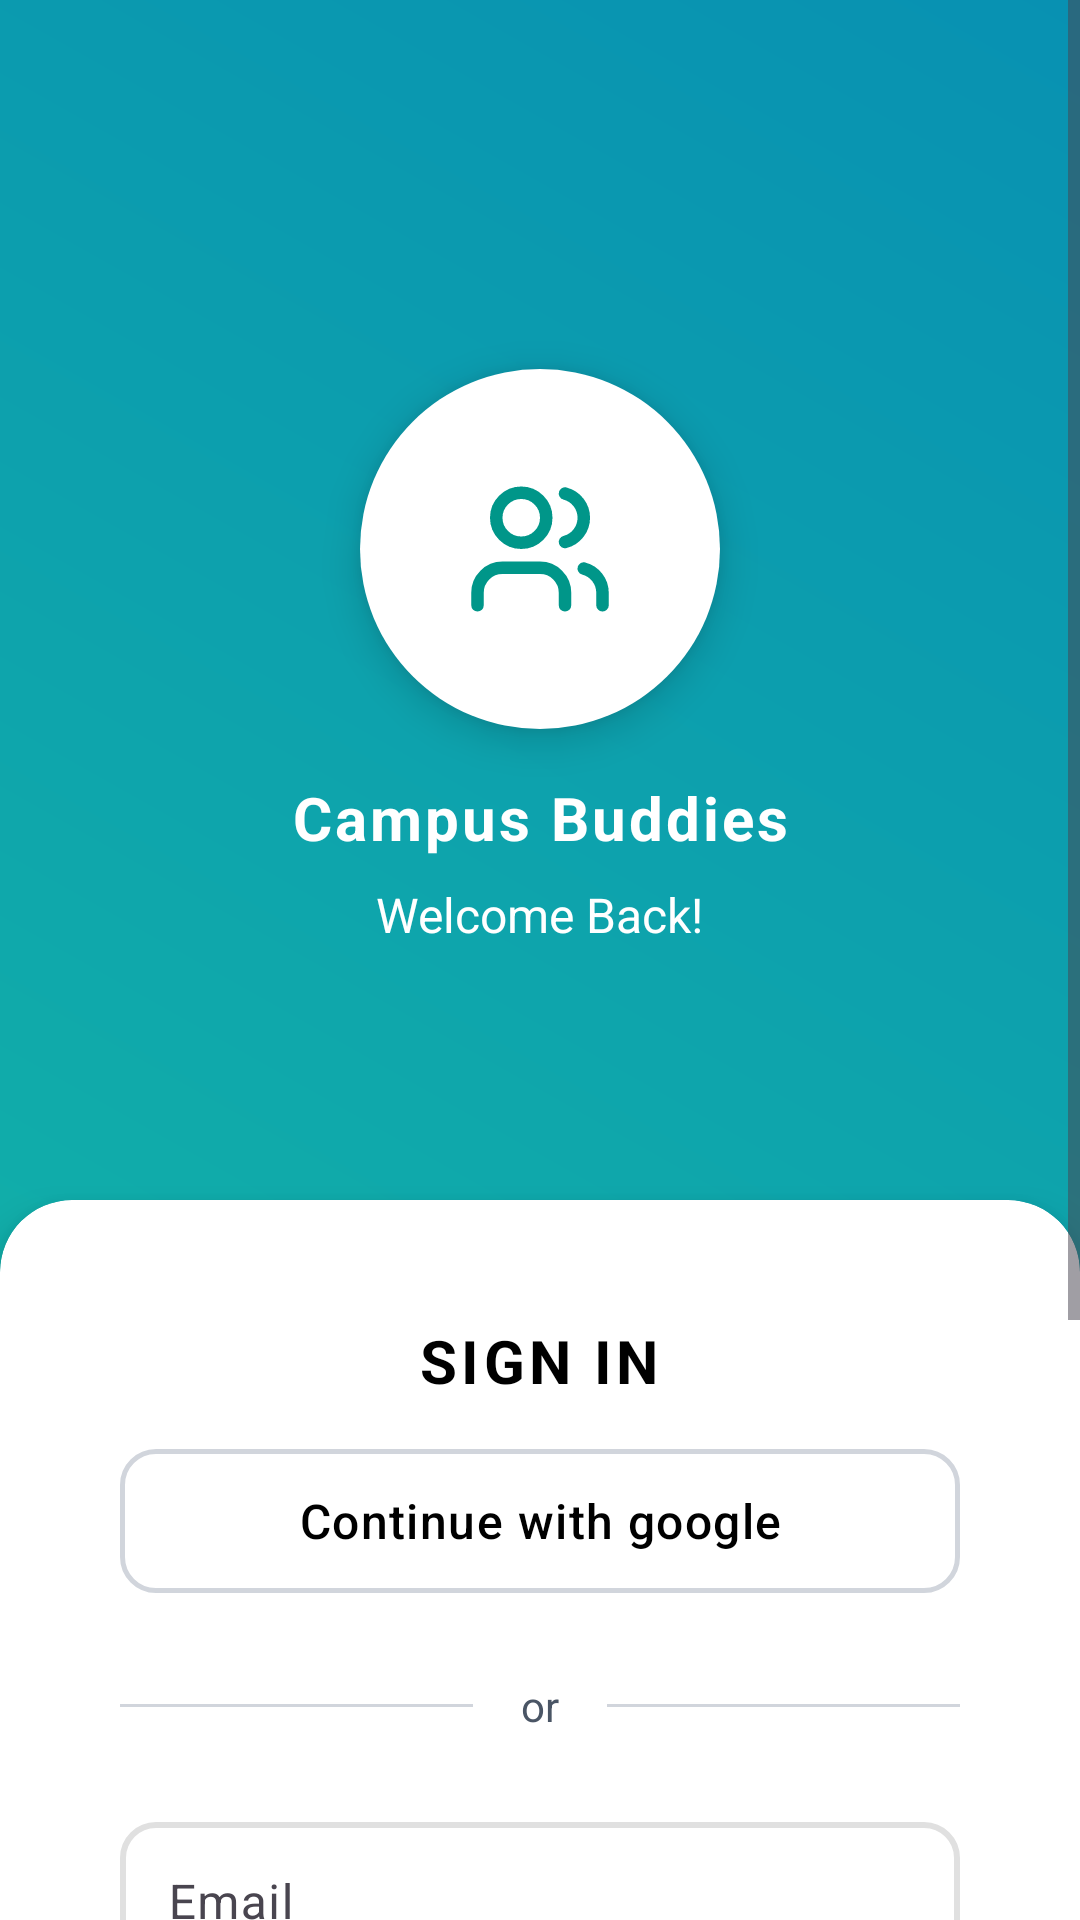

Point at icon controls on the screen. Image size 1080px x 1920px, points as (x=x, y=y).
community: (x=540, y=549)
